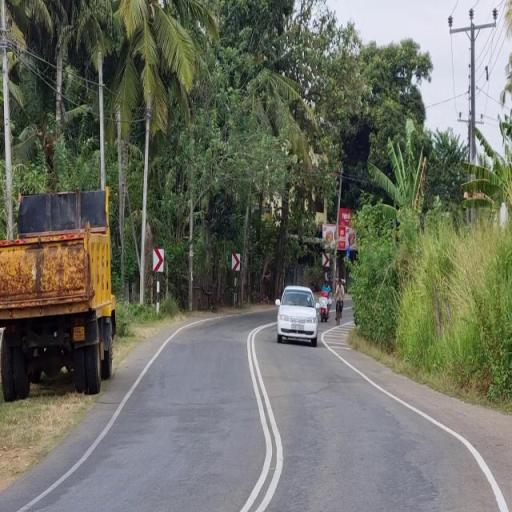double_white_line: (240, 322, 285, 510)
